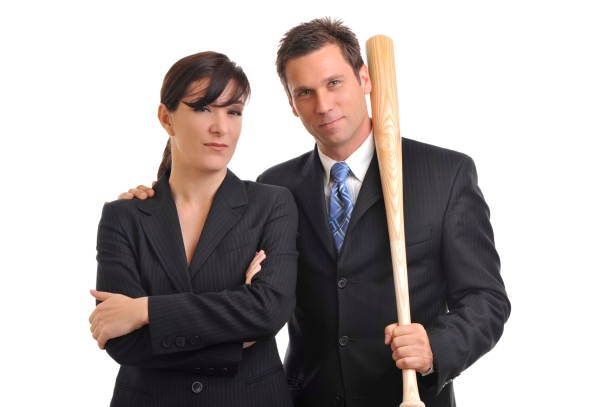bita: (369, 29, 423, 407)
